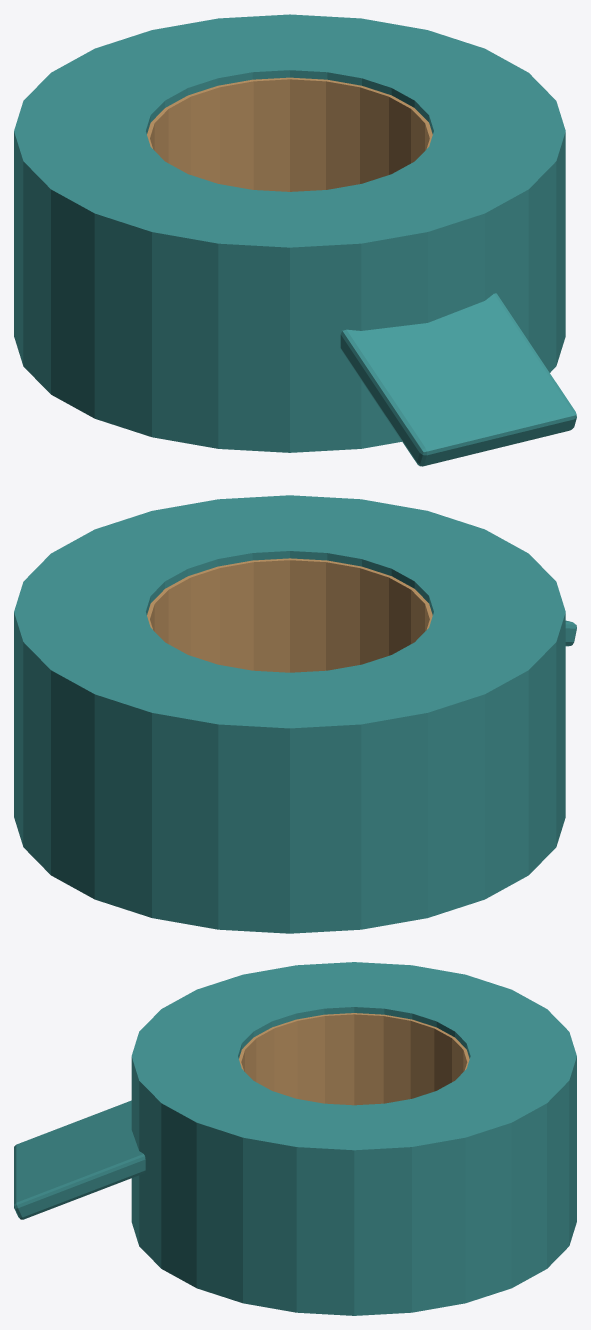
The model's file is P067_gaffer_tape.glb.
3 views of the same model, one above another, from view 1: azimuth 30°, elevation 25°; view 2: azimuth 150°, elevation 25°; view 3: azimuth 270°, elevation 25° (orthographic). The views are drawn at different scales.
Visible parts, largest first — view 1: P067_tape_001, P067_core_002, P067_peel_003; view 2: P067_tape_001, P067_core_002; view 3: P067_tape_001, P067_core_002, P067_peel_003.
Boxes of the visible parts, x1,y1,x2,y2 form: P067_tape_001: (14, 14, 565, 452); P067_core_002: (147, 77, 432, 191); P067_peel_003: (340, 293, 576, 466); P067_tape_001: (14, 495, 565, 933); P067_core_002: (147, 558, 432, 672); P067_tape_001: (131, 962, 576, 1315); P067_core_002: (239, 1013, 469, 1105); P067_peel_003: (14, 1100, 145, 1219).
Size of the model in its own units: 0.134 by 0.055 by 0.1694.
